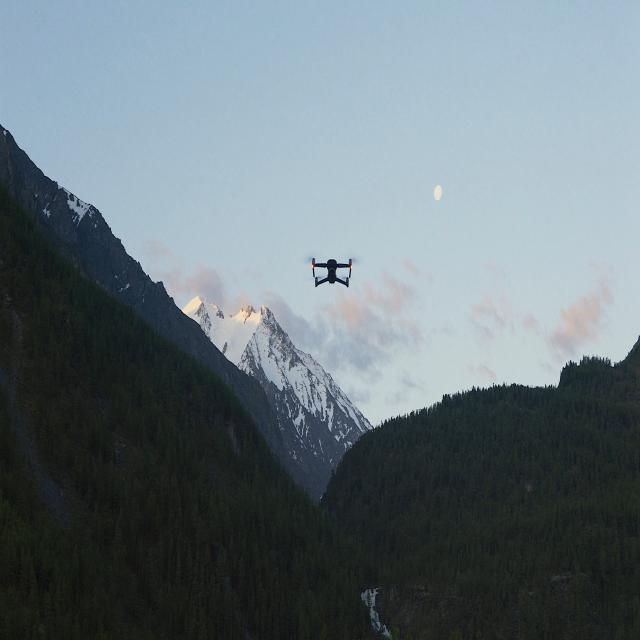Drone: (308, 248, 356, 293)
